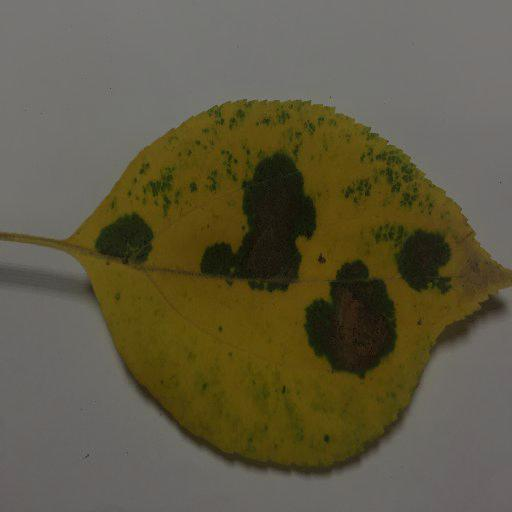Brown_Spot: (231, 163, 311, 287), (316, 280, 391, 369), (399, 237, 448, 289), (103, 227, 142, 256)
